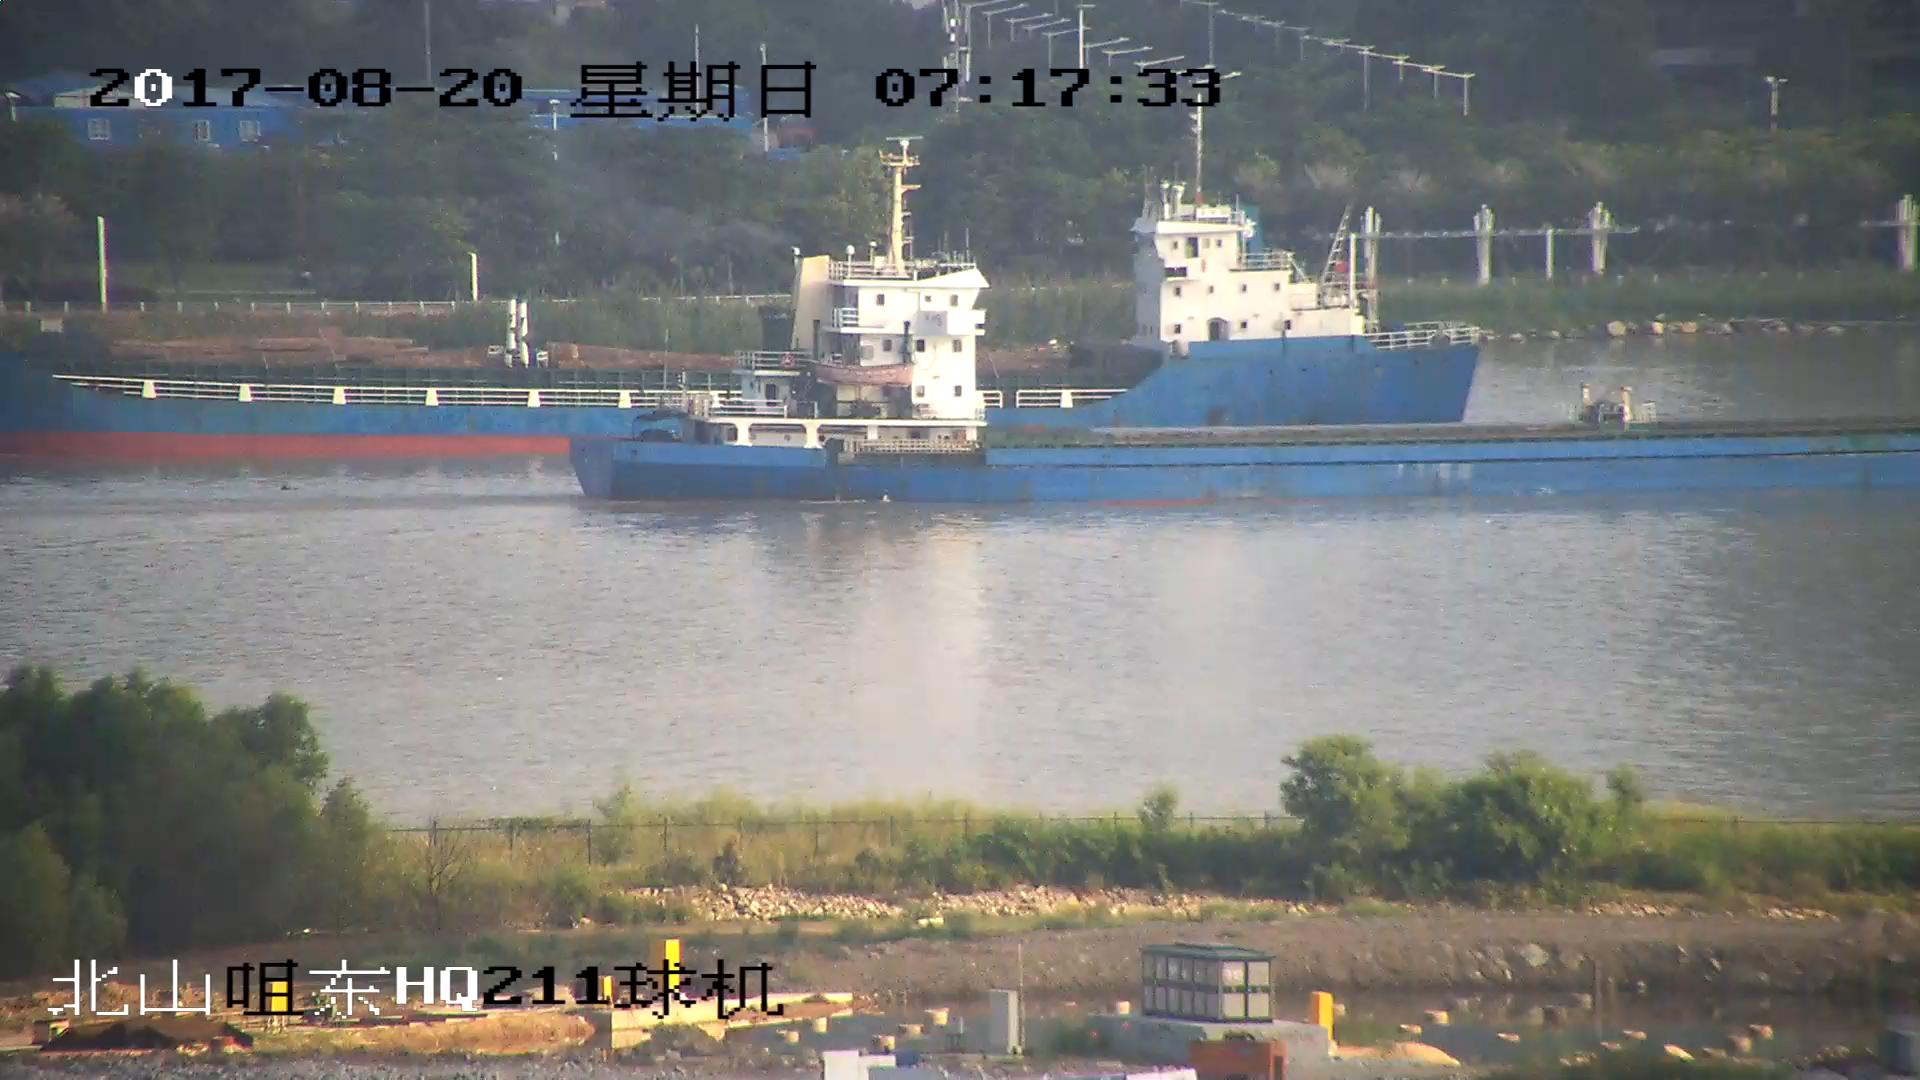general cargo ship: (1, 201, 1469, 448), (569, 258, 1920, 513)
